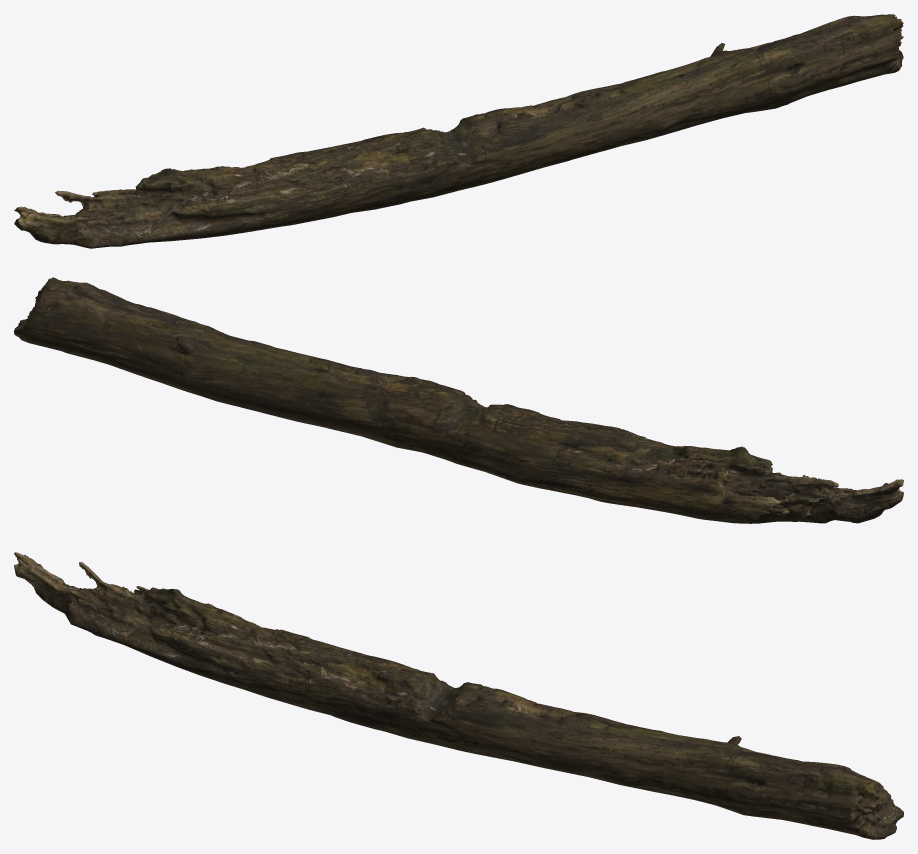
The model's file is dead_tree_trunk.glb.
3 views of the same model, one above another, from view 1: azimuth 30°, elevation 25°; view 2: azimuth 150°, elevation 25°; view 3: azimuth 330°, elevation 25° (orthographic).
Visible parts, largest first — view 1: dead_tree_trunk; view 2: dead_tree_trunk; view 3: dead_tree_trunk.
Boxes of the visible parts, <box> form: dead_tree_trunk: <box>14,14,903,248</box>; dead_tree_trunk: <box>14,277,903,523</box>; dead_tree_trunk: <box>14,552,903,839</box>.
Bounding box in the file's own units: 3.05 × 0.2898 × 0.2775.
1 material, 1 textured.
